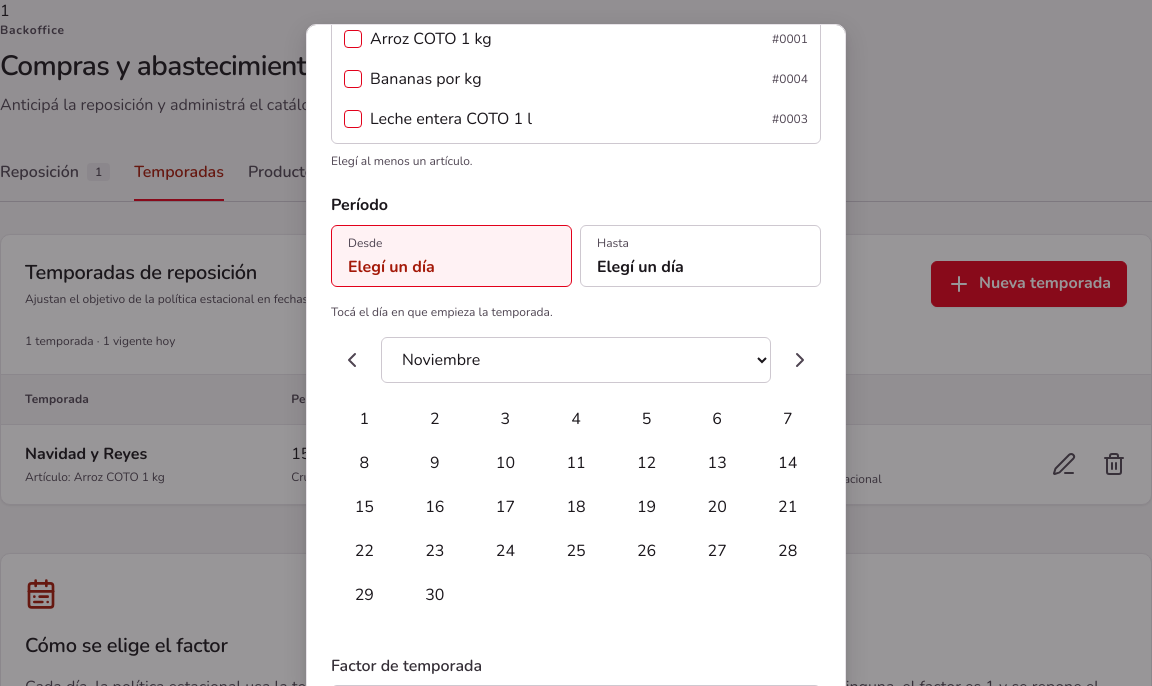
Scenario: temporadas de reposición › el calendario marca inicio, fin y el rango, también cuando cruza el año
Earlier steps of the test are not shown.
Later steps or results of the test are not shown.
(page scrolled)
Select "Diciembre" in the dropdown named "Mes del calendario": coordinates (576, 360) [381,337,771,383]
Click the button "20": coordinates (717, 507) [684,487,750,527]
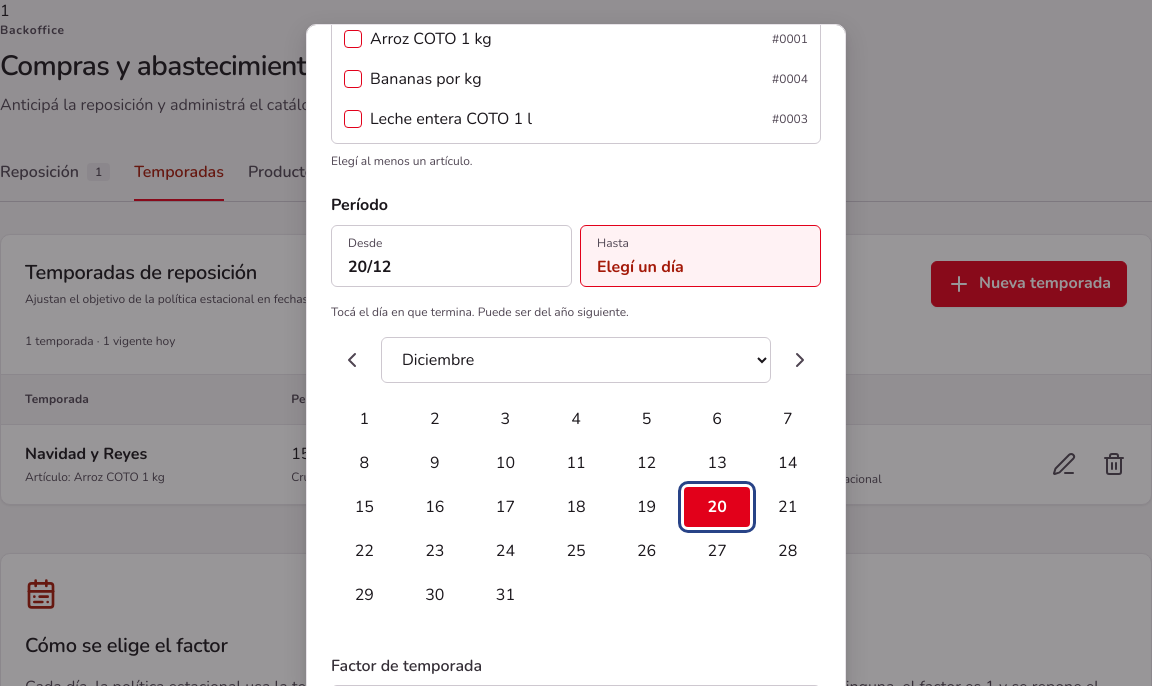
Now the button "Desde 20/12" is shown, box [331,224,572,287]
Select "Enero" in the dropdown named "Mes del calendario": coordinates (576, 360) [381,337,771,383]
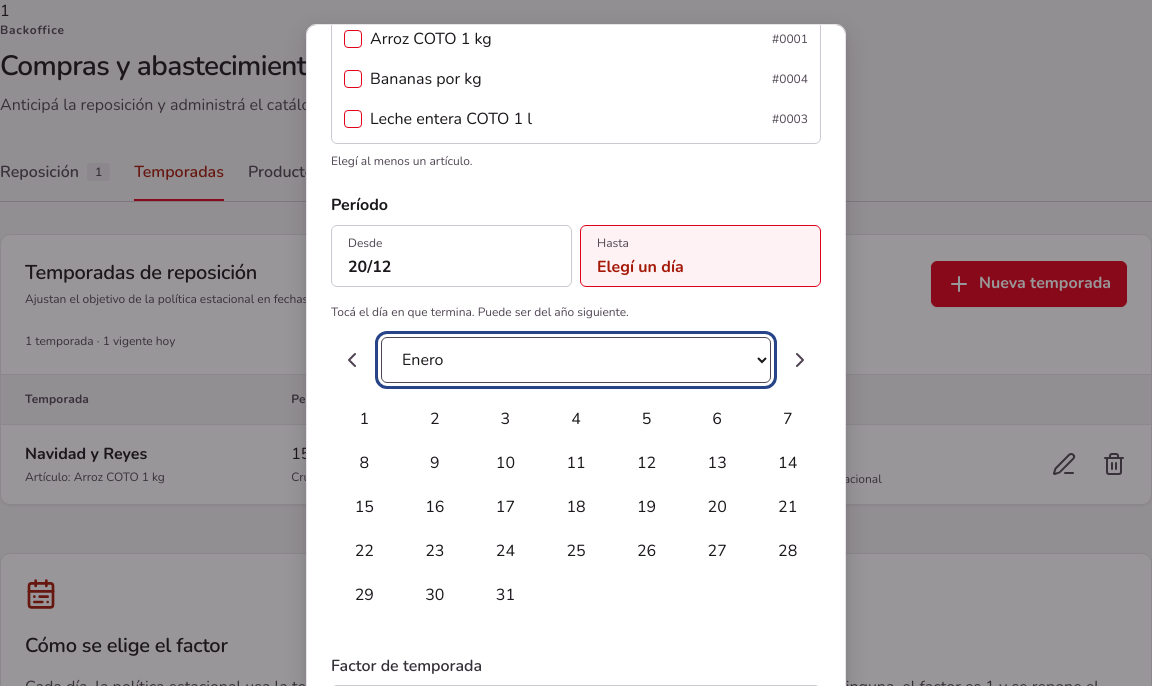
Click the button "10": coordinates (505, 463) [472,443,539,483]
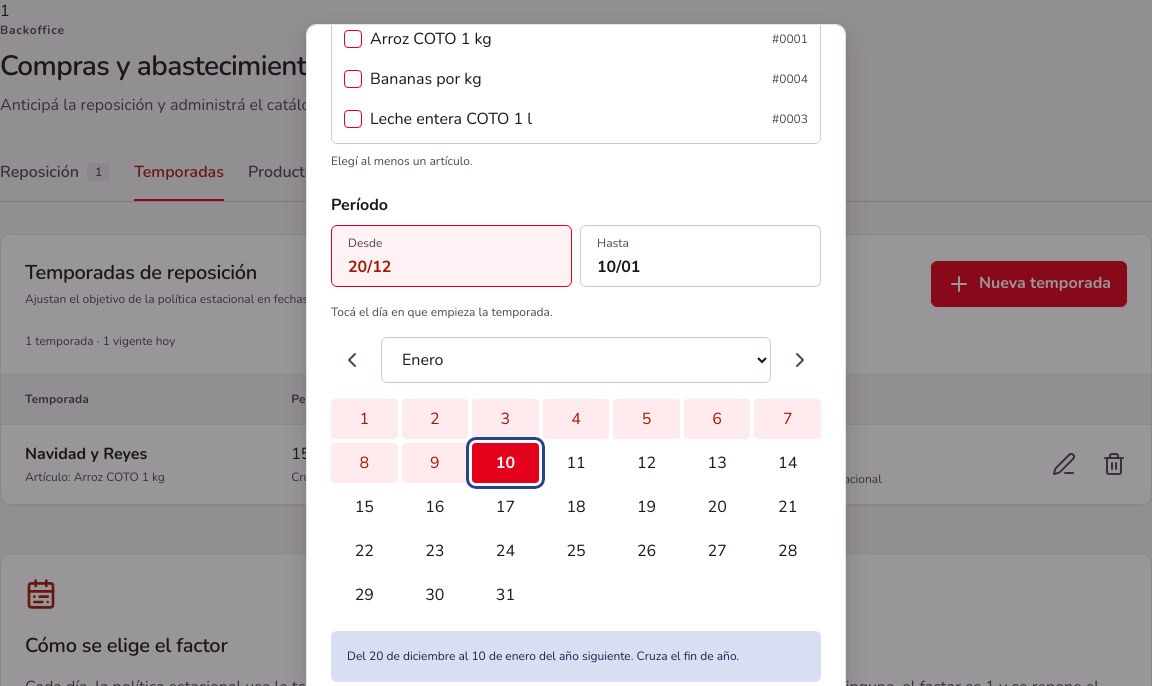
Now the button "Hasta 10/01" is shown
Now the text "Del 20 de diciembre al 10 de enero del año siguiente. Cruza el fin de año." is shown, box [331,631,821,682]
Now the button named "5 de enero, dentro del período" is shown, box [613,399,680,439]
Click the button "Hasta 10/01": coordinates (700, 256) [580,224,821,287]
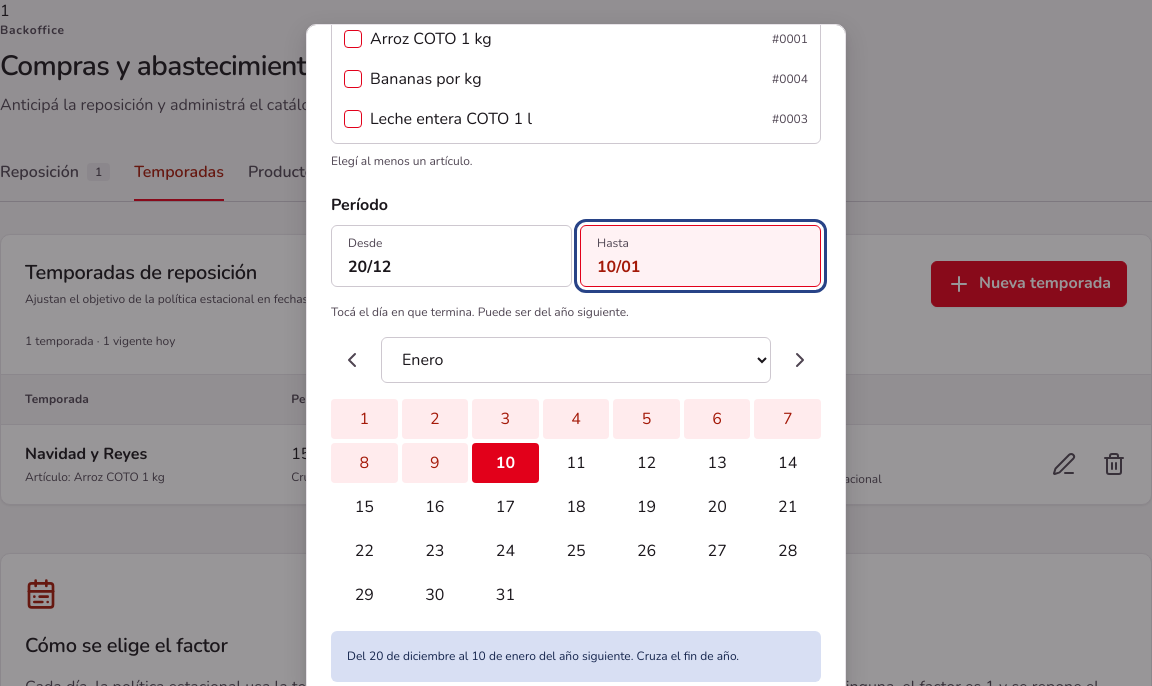
Select "Febrero" in the dropdown named "Mes del calendario": coordinates (576, 360) [381,337,771,383]
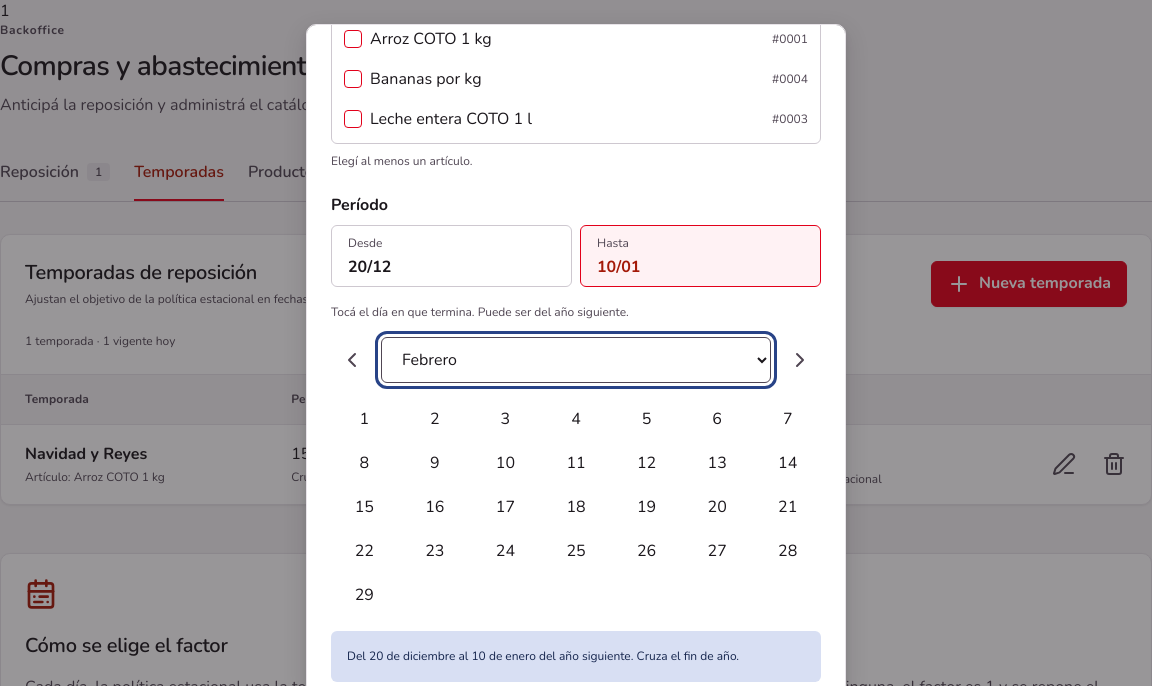
Click the button named "29 de febrero": coordinates (364, 595) [331,575,398,615]
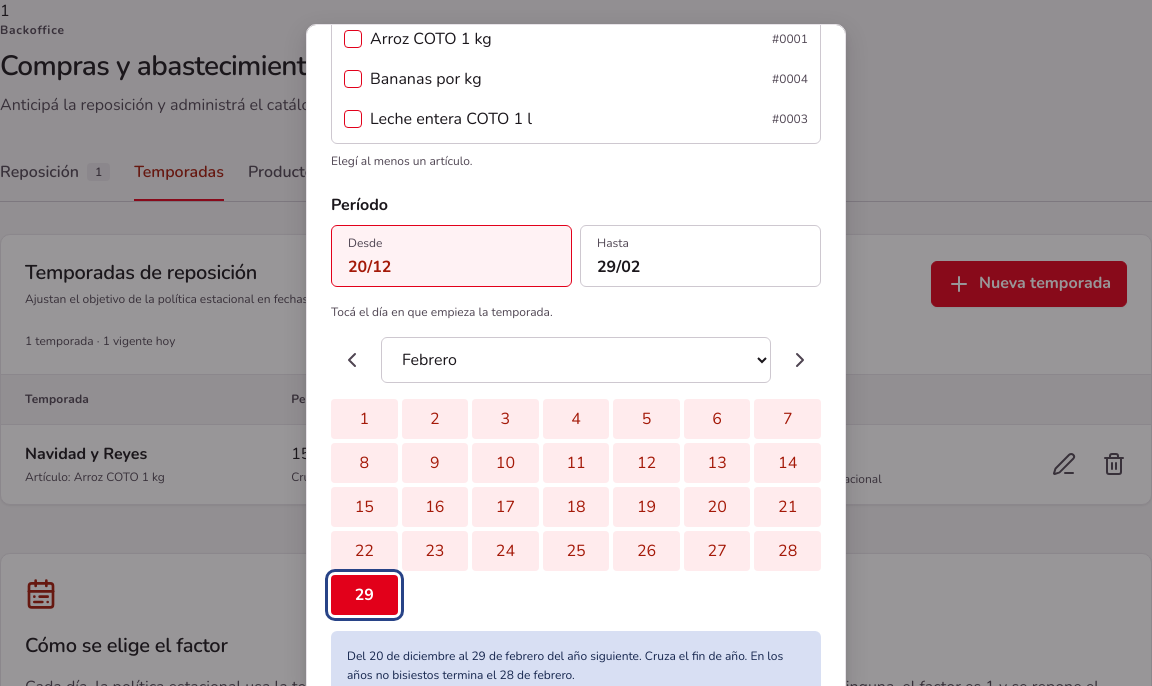
Now the text "En los años no bisiestos termina el 28 de febrero." is shown, box [347,648,783,683]
